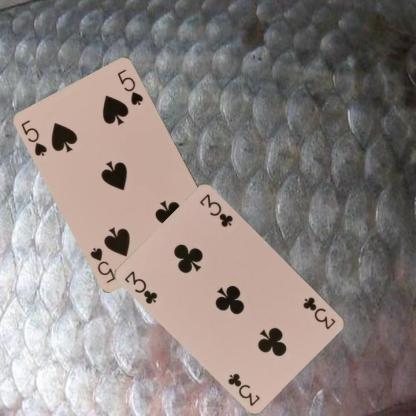3c: (300, 294, 337, 331), (122, 268, 159, 305)
5s: (19, 117, 49, 158)
